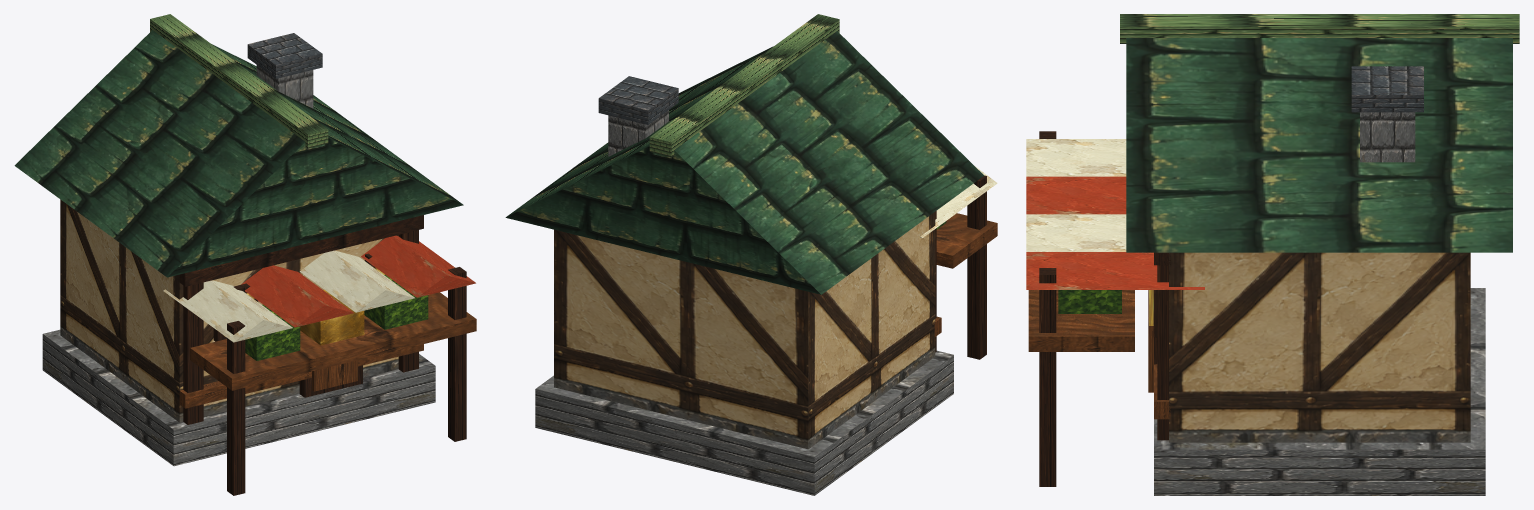
File: Shop.fbx
3 renders of one model, left to right at view 1: azimuth 30°, elevation 25°; view 2: azimuth 150°, elevation 25°; view 3: azimuth 270°, elevation 25°, orthographic. The views are drawn at different scales.
Parts seen in each view (by area): view 1: Shop; view 2: Shop; view 3: Shop.
Boxes of the visible parts, x1=… form: Shop: x1=14, y1=14, x2=476, y2=495; Shop: x1=505, y1=14, x2=997, y2=495; Shop: x1=1026, y1=14, x2=1519, y2=495.
Bounding box in the file's own units: 102 × 103 × 116.
